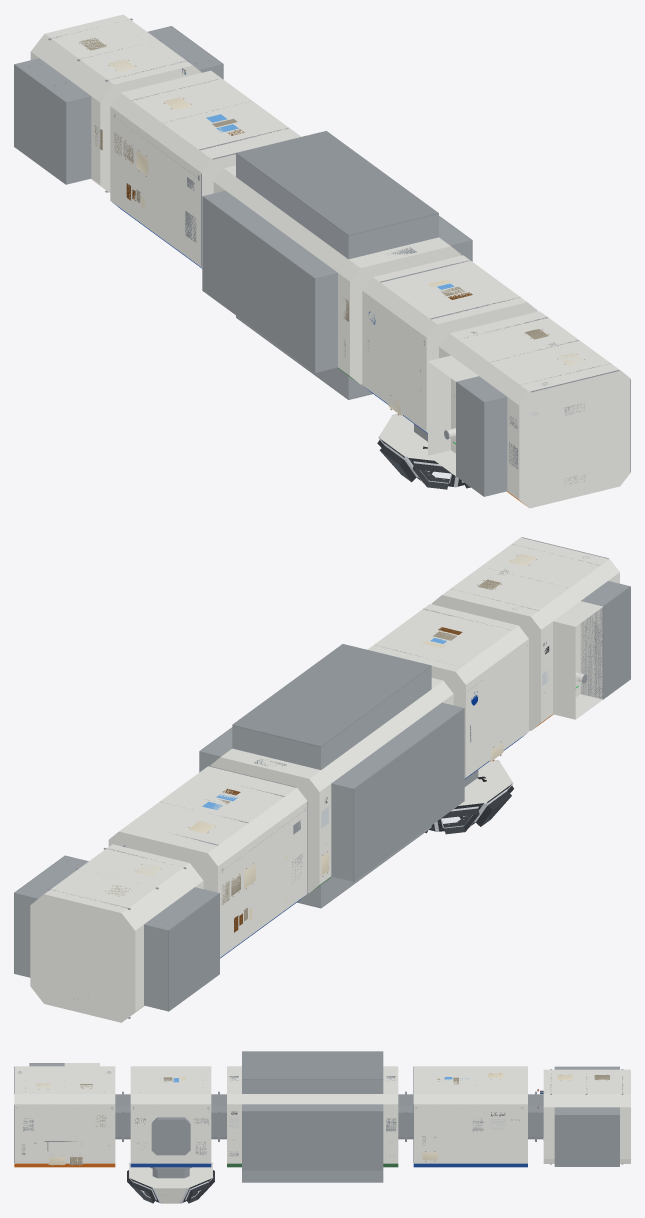
The model's file is estacion.glb.
3 renders of one model, top to bottom at view 1: azimuth 30°, elevation 25°; view 2: azimuth 150°, elevation 25°; view 3: azimuth 270°, elevation 25°, orthographic. The views are drawn at different scales.
Parts seen in each view (by area): view 1: T_Casco_Tacuarembo, C_Casco_Colonia, N_Casco_Nodo, C_Casco_Carguero, R_Casco, C_Bahia_B, T_Rack_TAC-B1, R_Rack_RIV-B1, R_Rack_RIV-T1, R_Rack_RIV-B2, R_Rack_RIV-B3, R_Rack_RIV-B4 (+9 smaller); view 2: C_Casco_Colonia, C_Casco_Carguero, N_Casco_Nodo, T_Casco_Tacuarembo, C_Bahia_B, R_Casco, R_Rack_RIV-B4, R_Rack_RIV-T4, T_Rack_TAC-B2, T_Rack_TAC-B1, R_Rack_RIV-B3, R_Rack_RIV-B1 (+8 smaller); view 3: C_Casco_Colonia, T_Casco_Tacuarembo, N_Casco_Nodo, R_Casco, C_Casco_Carguero, C_Bahia_E, F_Casco_Cupula, R_Rack_RIV-E1, R_Rack_RIV-E2, R_Rack_RIV-E3, R_Rack_RIV-E4, R_Rack_RIV-T1 (+11 smaller).
Boxes of the visible parts, x1=… form: T_Casco_Tacuarembo: x1=439, y1=311, x2=630, y2=508; C_Casco_Colonia: x1=110, y1=70, x2=301, y2=268; N_Casco_Nodo: x1=362, y1=255, x2=537, y2=433; C_Casco_Carguero: x1=30, y1=14, x2=201, y2=192; R_Casco: x1=213, y1=165, x2=461, y2=384; C_Bahia_B: x1=14, y1=58, x2=91, y2=184; T_Rack_TAC-B1: x1=456, y1=376, x2=507, y2=496; R_Rack_RIV-B1: x1=286, y1=252, x2=337, y2=372; R_Rack_RIV-T1: x1=320, y1=192, x2=438, y2=259; R_Rack_RIV-B2: x1=258, y1=231, x2=309, y2=351; R_Rack_RIV-B3: x1=230, y1=211, x2=281, y2=331; R_Rack_RIV-B4: x1=202, y1=190, x2=253, y2=310; C_Casco_Colonia: x1=108, y1=766, x2=307, y2=958; C_Casco_Carguero: x1=30, y1=844, x2=203, y2=1022; N_Casco_Nodo: x1=367, y1=604, x2=528, y2=779; T_Casco_Tacuarembo: x1=431, y1=537, x2=619, y2=730; C_Bahia_B: x1=144, y1=887, x2=219, y2=1011; R_Casco: x1=210, y1=678, x2=453, y2=893; R_Rack_RIV-B4: x1=331, y1=763, x2=381, y2=881; R_Rack_RIV-T4: x1=232, y1=704, x2=348, y2=769; T_Rack_TAC-B2: x1=553, y1=601, x2=602, y2=719; T_Rack_TAC-B1: x1=581, y1=581, x2=630, y2=699; R_Rack_RIV-B3: x1=359, y1=743, x2=409, y2=861; R_Rack_RIV-B1: x1=414, y1=702, x2=464, y2=820; C_Casco_Colonia: x1=407, y1=1066, x2=534, y2=1167; T_Casco_Tacuarembo: x1=14, y1=1066, x2=121, y2=1167; N_Casco_Nodo: x1=124, y1=1066, x2=217, y2=1167; R_Casco: x1=220, y1=1066, x2=404, y2=1167; C_Casco_Carguero: x1=537, y1=1069, x2=630, y2=1163; C_Bahia_E: x1=554, y1=1107, x2=619, y2=1166; F_Casco_Cupula: x1=127, y1=1162, x2=214, y2=1203; R_Rack_RIV-E1: x1=242, y1=1104, x2=277, y2=1170; R_Rack_RIV-E2: x1=277, y1=1104, x2=312, y2=1170; R_Rack_RIV-E3: x1=312, y1=1104, x2=347, y2=1170; R_Rack_RIV-E4: x1=348, y1=1104, x2=383, y2=1170; R_Rack_RIV-T1: x1=242, y1=1051, x2=277, y2=1093.
Size of the model in its own units: 3.4 by 4.37 by 18.35.
Materials: 13 (12 with a texture image).
